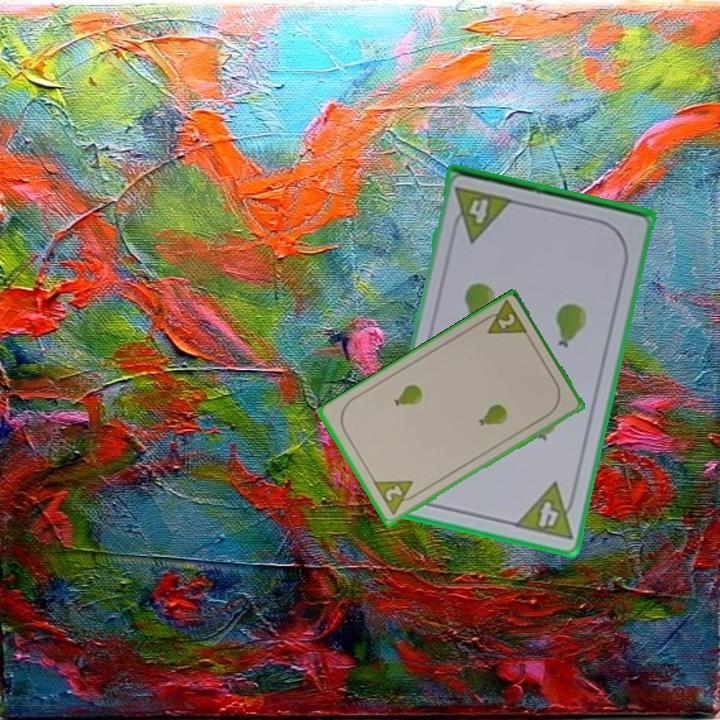2p: (370, 477, 423, 519), (476, 298, 531, 338)
4p: (510, 479, 581, 543), (447, 183, 516, 245)
